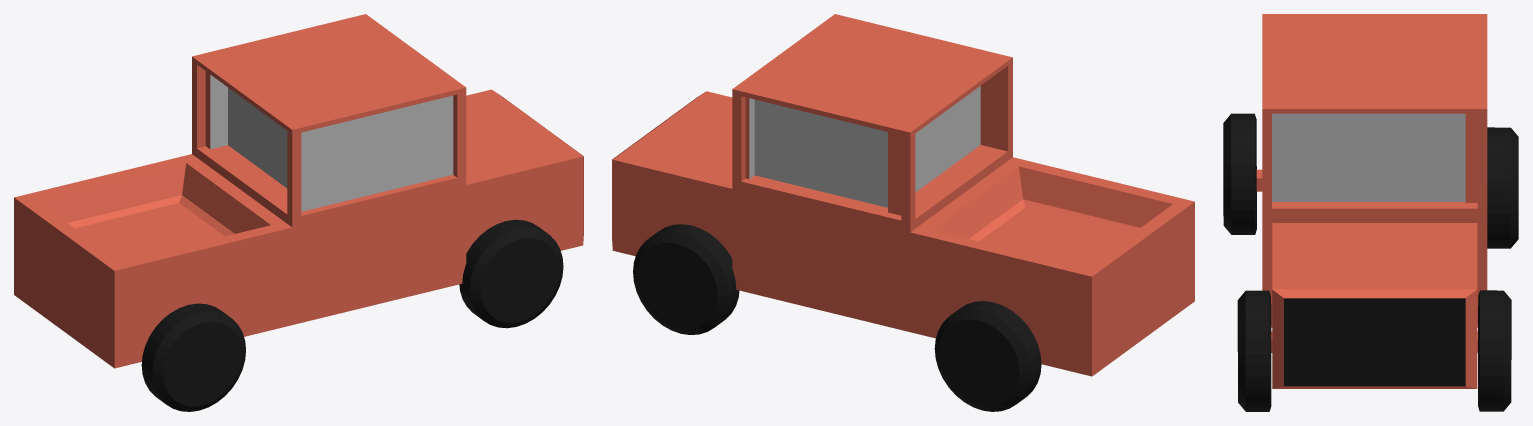
The model's file is car 1.fbx.
The picture shows the model from 3 angles, left to right: view 1: azimuth 30°, elevation 25°; view 2: azimuth 150°, elevation 25°; view 3: azimuth 270°, elevation 25°; orthographic projection. The views are drawn at different scales.
Visible parts, largest first — view 1: Cube; view 2: Cube; view 3: Cube.
Part boxes in pixels (left/top/right/bottom): Cube: left=14, top=14, right=583, bottom=411; Cube: left=612, top=14, right=1194, bottom=411; Cube: left=1223, top=14, right=1518, bottom=411.
Bounding box in the file's own units: 551 × 269 × 263.
